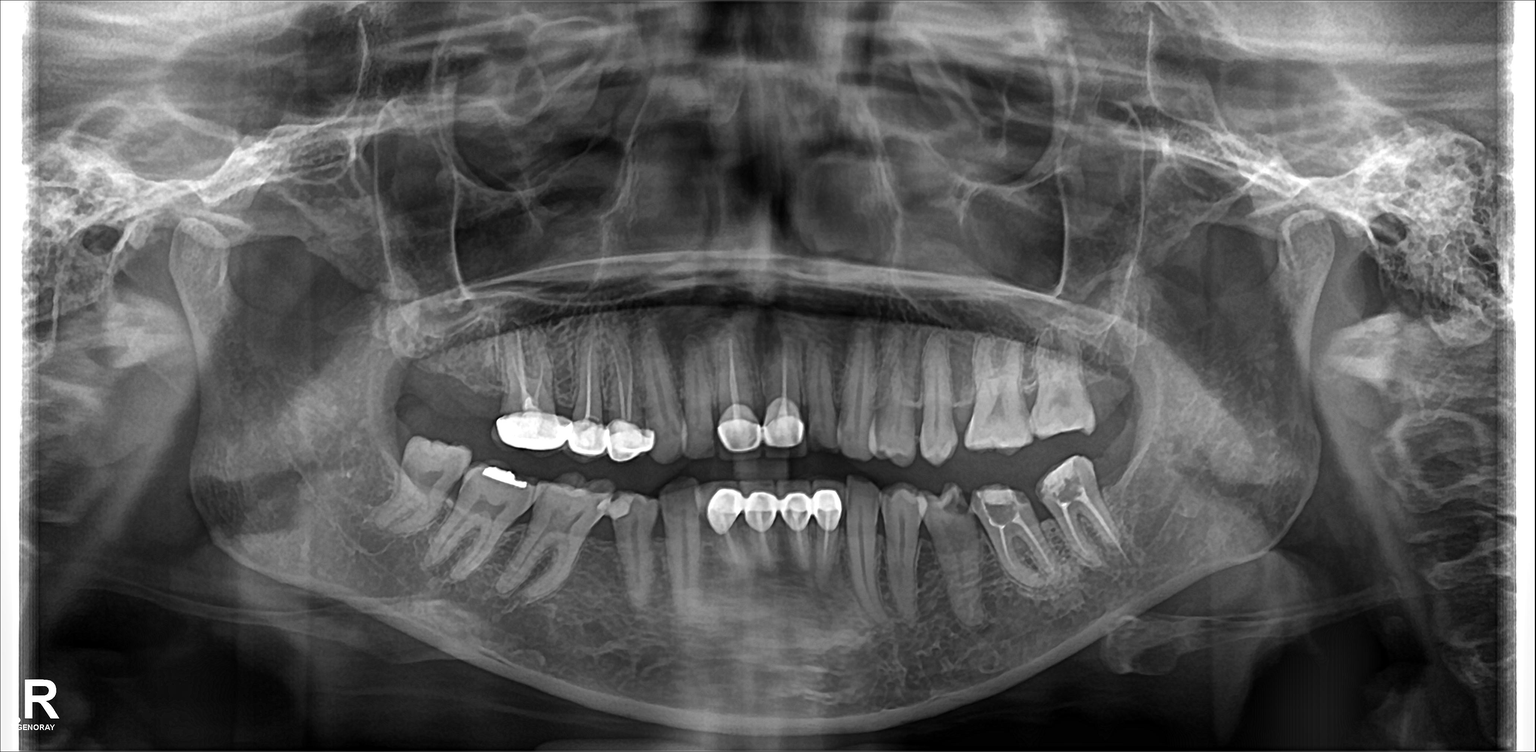Endodontically Treated Tooth: (984, 493, 1052, 603), (494, 335, 557, 448), (1050, 463, 1107, 570), (611, 329, 650, 472), (806, 475, 846, 612), (712, 326, 758, 445), (760, 328, 807, 438), (698, 488, 742, 594), (566, 326, 603, 450), (741, 484, 781, 593), (780, 478, 812, 606)
Missing Tooth: (393, 333, 445, 436), (1080, 337, 1131, 425), (439, 348, 489, 434), (1108, 447, 1149, 529)
